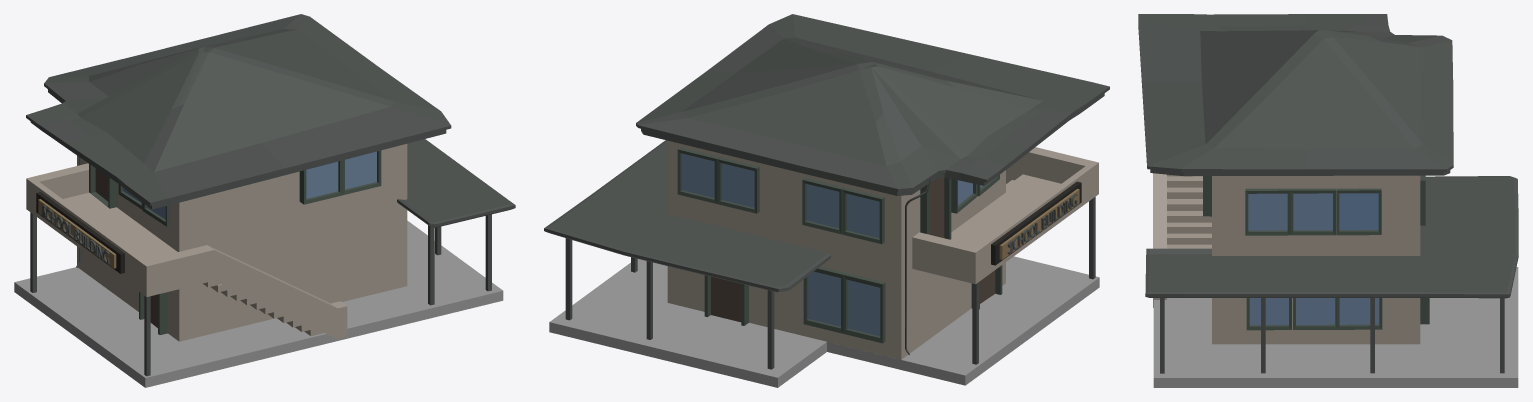
Rendered from School_building.fbx.
The picture shows the model from 3 angles, left to right: view 1: azimuth 30°, elevation 25°; view 2: azimuth 150°, elevation 25°; view 3: azimuth 270°, elevation 25°; orthographic projection. The views are drawn at different scales.
Parts seen in each view (by area): view 1: typeMesh3; view 2: typeMesh3; view 3: typeMesh3.
Boxes of the visible parts, x1,y1,x2,y2 form: typeMesh3: [14, 14, 515, 387]; typeMesh3: [544, 14, 1109, 387]; typeMesh3: [1138, 14, 1518, 387].
Bounding box in the file's own units: 13.45 × 8.34 × 11.6.
